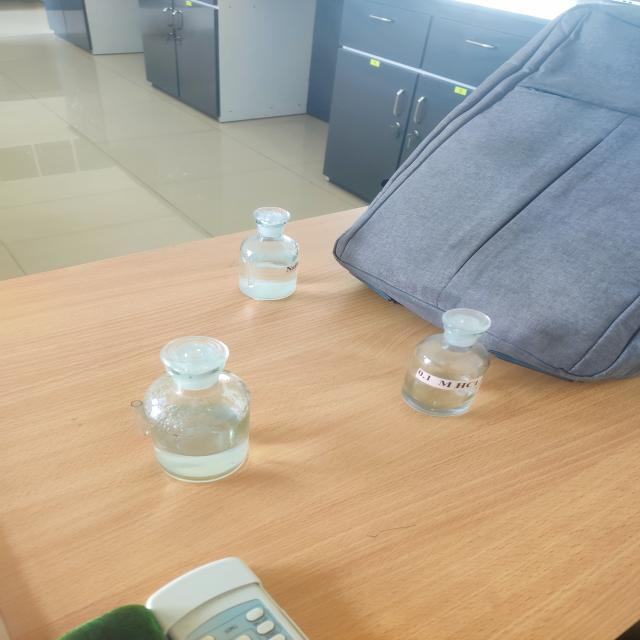Reagent_Bottle: (114, 320, 292, 500), (384, 292, 532, 432), (197, 181, 338, 320)
